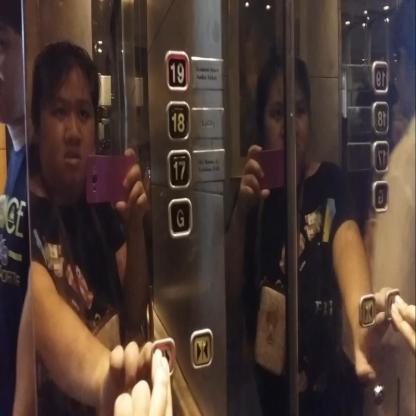17: (166, 149, 192, 189)
18: (165, 100, 191, 141)
19: (164, 50, 190, 91)
G: (167, 197, 192, 239)
close: (190, 328, 214, 368), (358, 293, 376, 327)
unknown: (370, 140, 390, 173), (371, 100, 389, 136), (370, 60, 388, 95), (370, 180, 389, 213)
